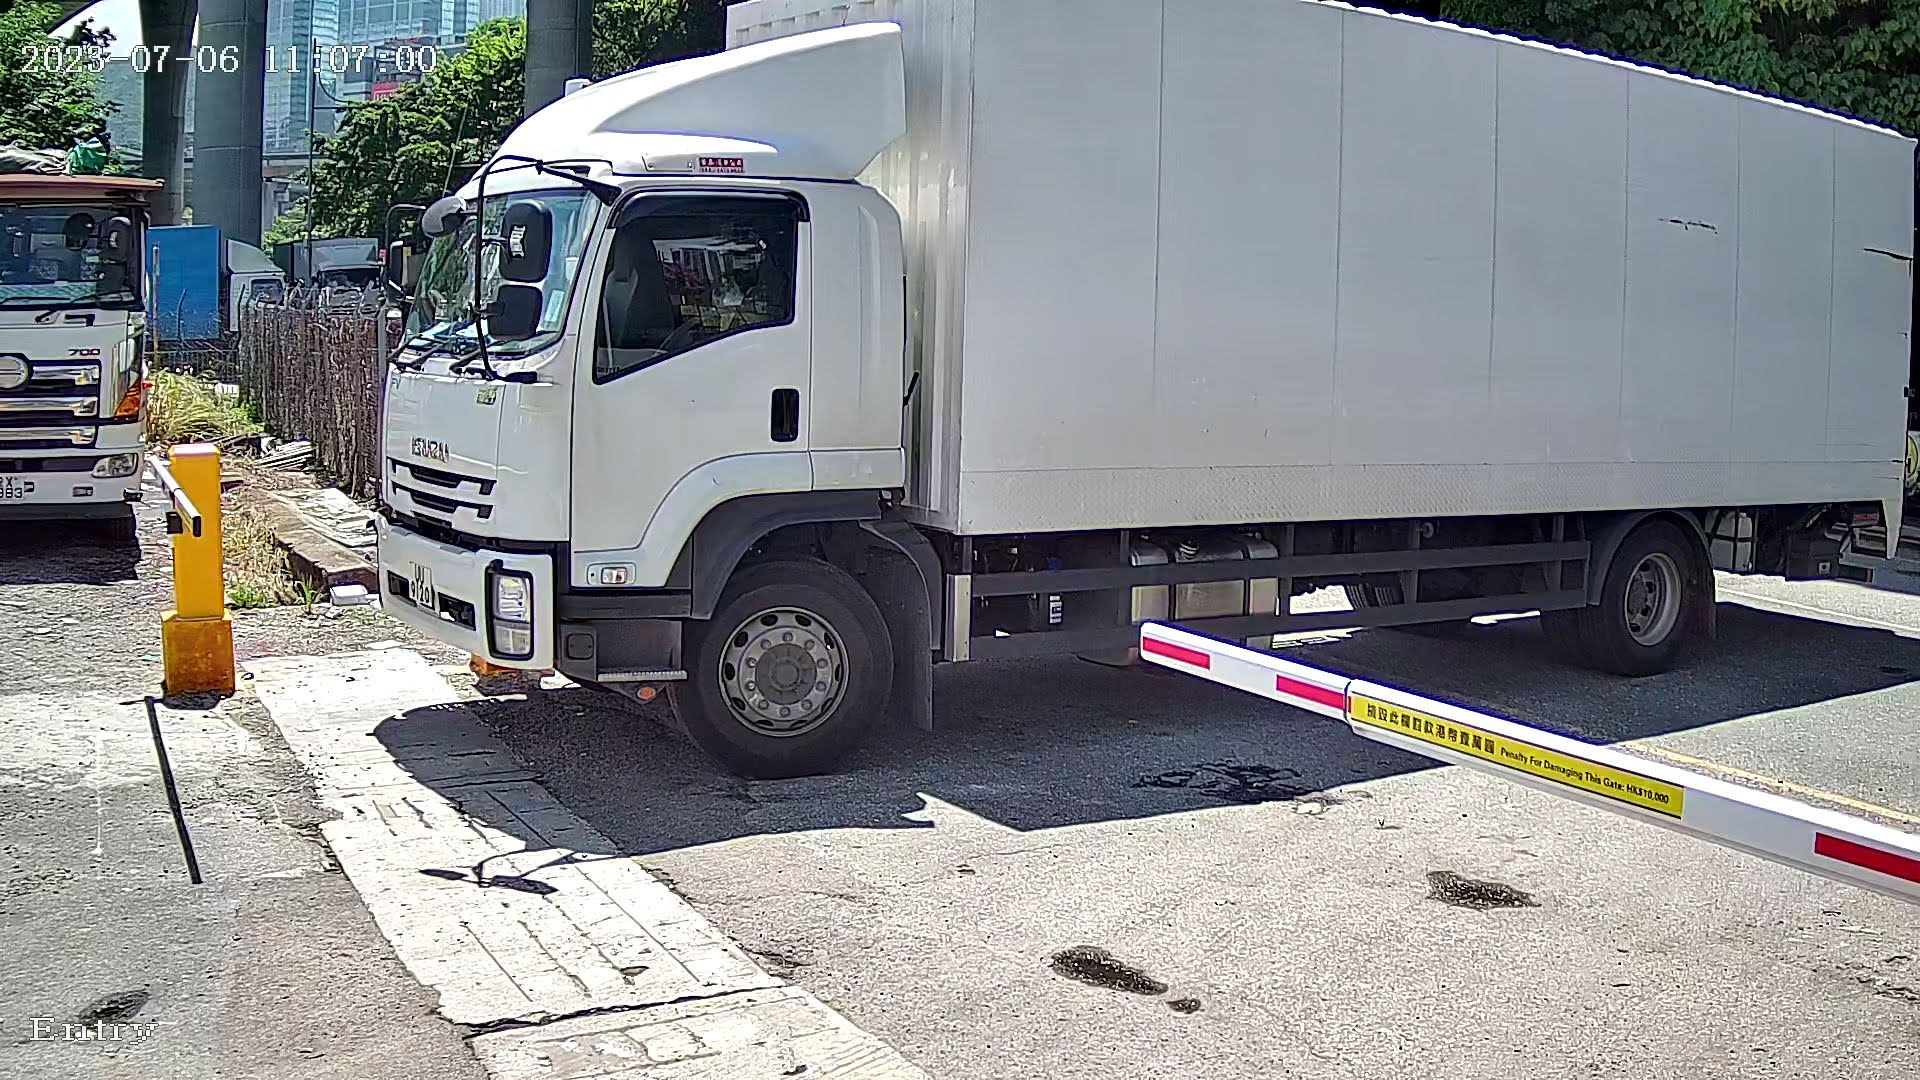truck_large: (323, 4, 1920, 796)
